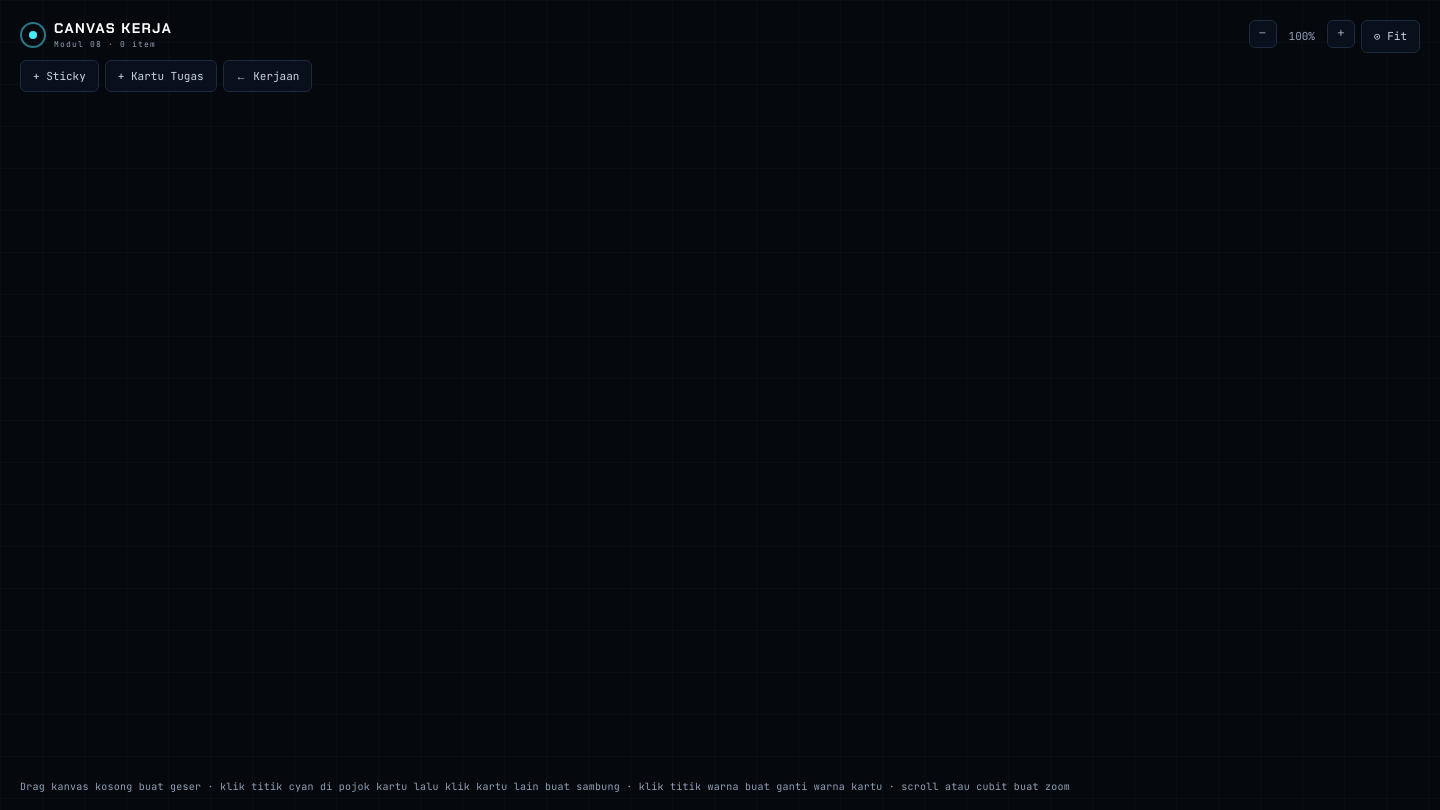
Test: CanvasKerjaPage › adds a new sticky note
Check: the text "Modul 08 · 0 item" is shown, box [54,38,172,50]
Click the button "+ Sticky".
click(59, 76)  # box [20,60,99,92]
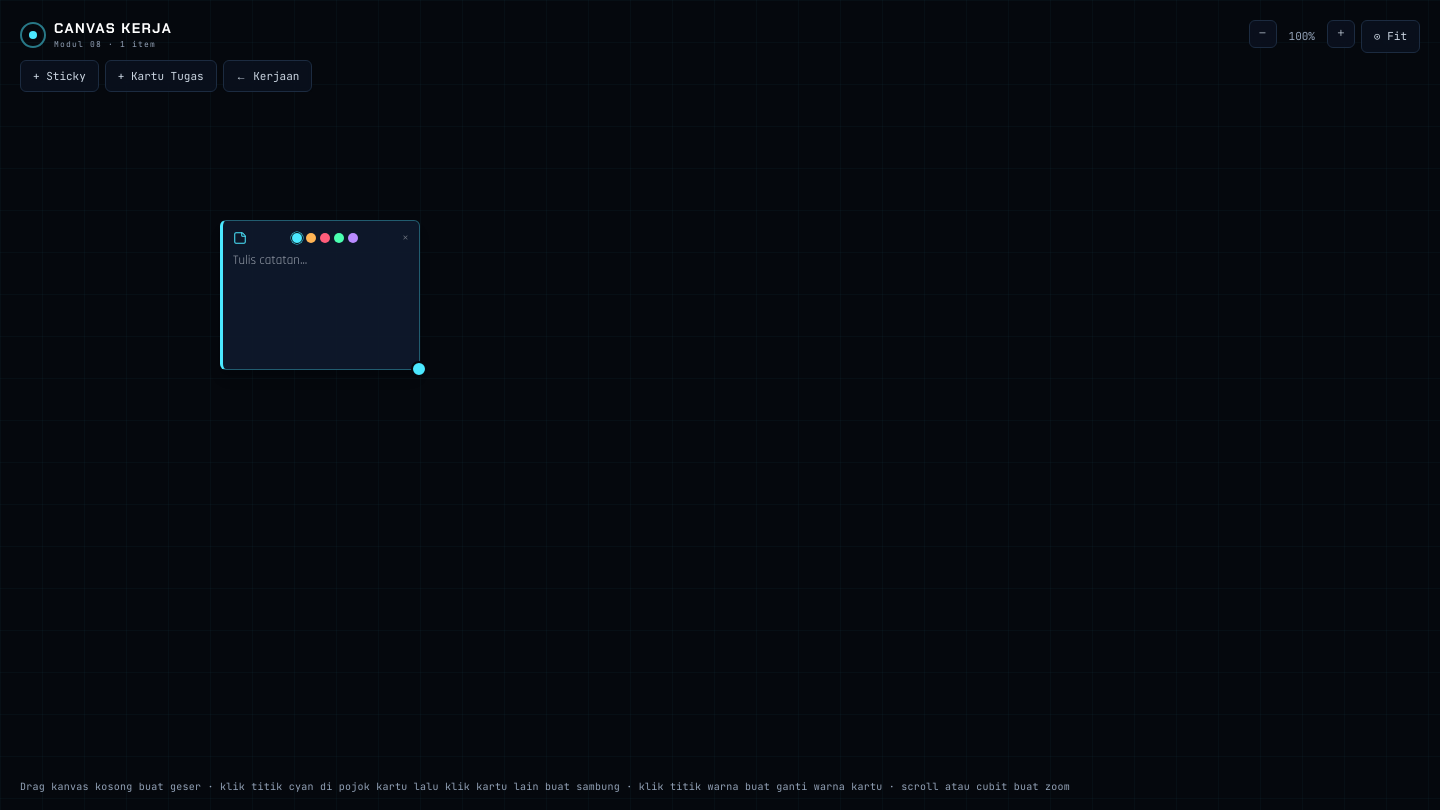
Check: the text "Modul 08 · 1 item" is shown, box [54,38,172,50]
Check: the text box with placeholder "Tulis catatan..." is shown, box [233,251,409,359]
